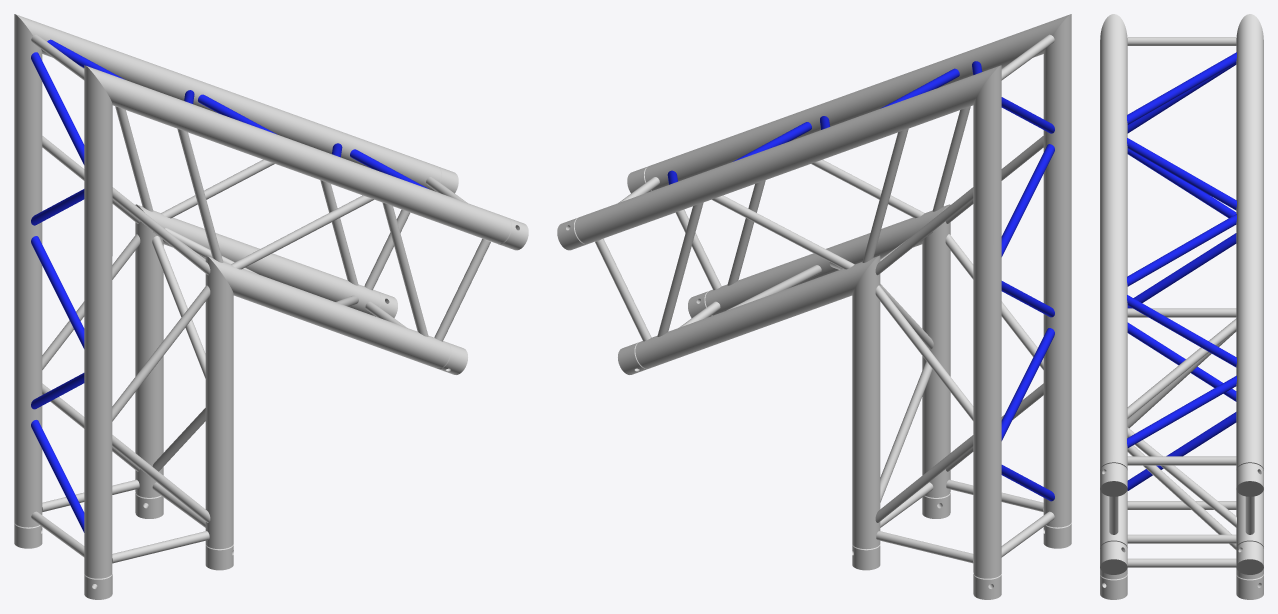
The picture shows the model from 3 angles, left to right: view 1: azimuth 30°, elevation 25°; view 2: azimuth 150°, elevation 25°; view 3: azimuth 270°, elevation 25°; orthographic projection. The views are drawn at different scales.
Parts seen in each view (by area): view 1: 260027792; view 2: 260027792; view 3: 260027792.
Part boxes in pixels (left/top/right/bottom): 260027792: left=14, top=14, right=528, bottom=599; 260027792: left=557, top=14, right=1071, bottom=599; 260027792: left=1100, top=14, right=1263, bottom=599.
Size of the model in its own units: 0.866 by 1 by 0.2873.
